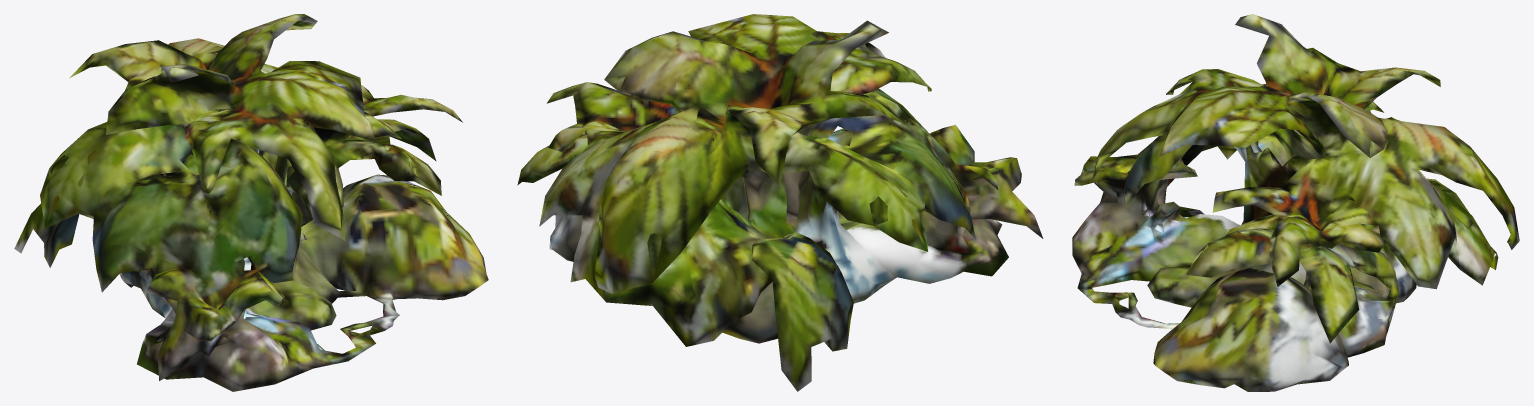
The model's file is SummerDecor_FirstRoom_TropicalShrub.fbx.
3 renders of one model, left to right at view 1: azimuth 30°, elevation 25°; view 2: azimuth 150°, elevation 25°; view 3: azimuth 270°, elevation 25°, orthographic. The views are drawn at different scales.
Parts seen in each view (by area): view 1: SummerDecor_FirstRoom_TropicalShrub_Mesh; view 2: SummerDecor_FirstRoom_TropicalShrub_Mesh; view 3: SummerDecor_FirstRoom_TropicalShrub_Mesh.
Boxes of the visible parts, <box> form: SummerDecor_FirstRoom_TropicalShrub_Mesh: <box>14,14,488,391</box>; SummerDecor_FirstRoom_TropicalShrub_Mesh: <box>517,14,1043,391</box>; SummerDecor_FirstRoom_TropicalShrub_Mesh: <box>1072,14,1519,391</box>.
Bounding box in the file's own units: 5.84 × 3.62 × 6.
1 material, 1 textured.
